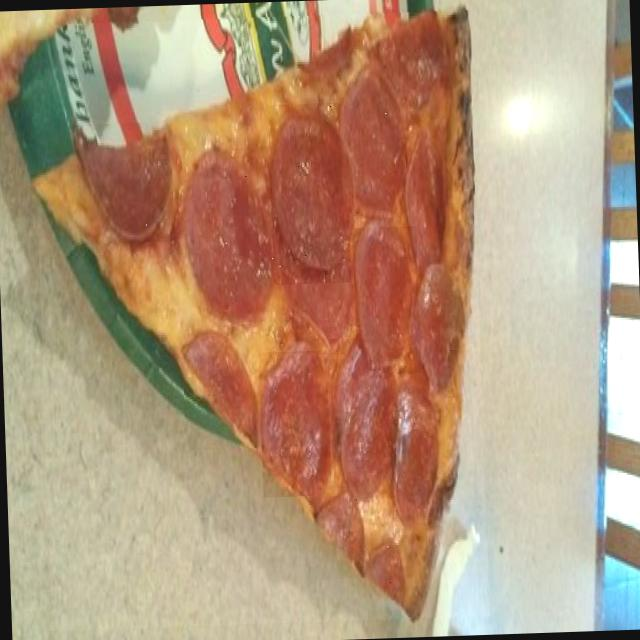pepperoni: (180, 152, 280, 328), (266, 102, 348, 285), (74, 122, 172, 245), (328, 337, 397, 501), (257, 350, 329, 497), (351, 226, 420, 376), (338, 70, 404, 219), (180, 326, 254, 449), (397, 120, 449, 292), (408, 255, 468, 395), (388, 385, 446, 527), (312, 488, 366, 580), (363, 540, 410, 618)
pizza: (36, 12, 472, 618)
